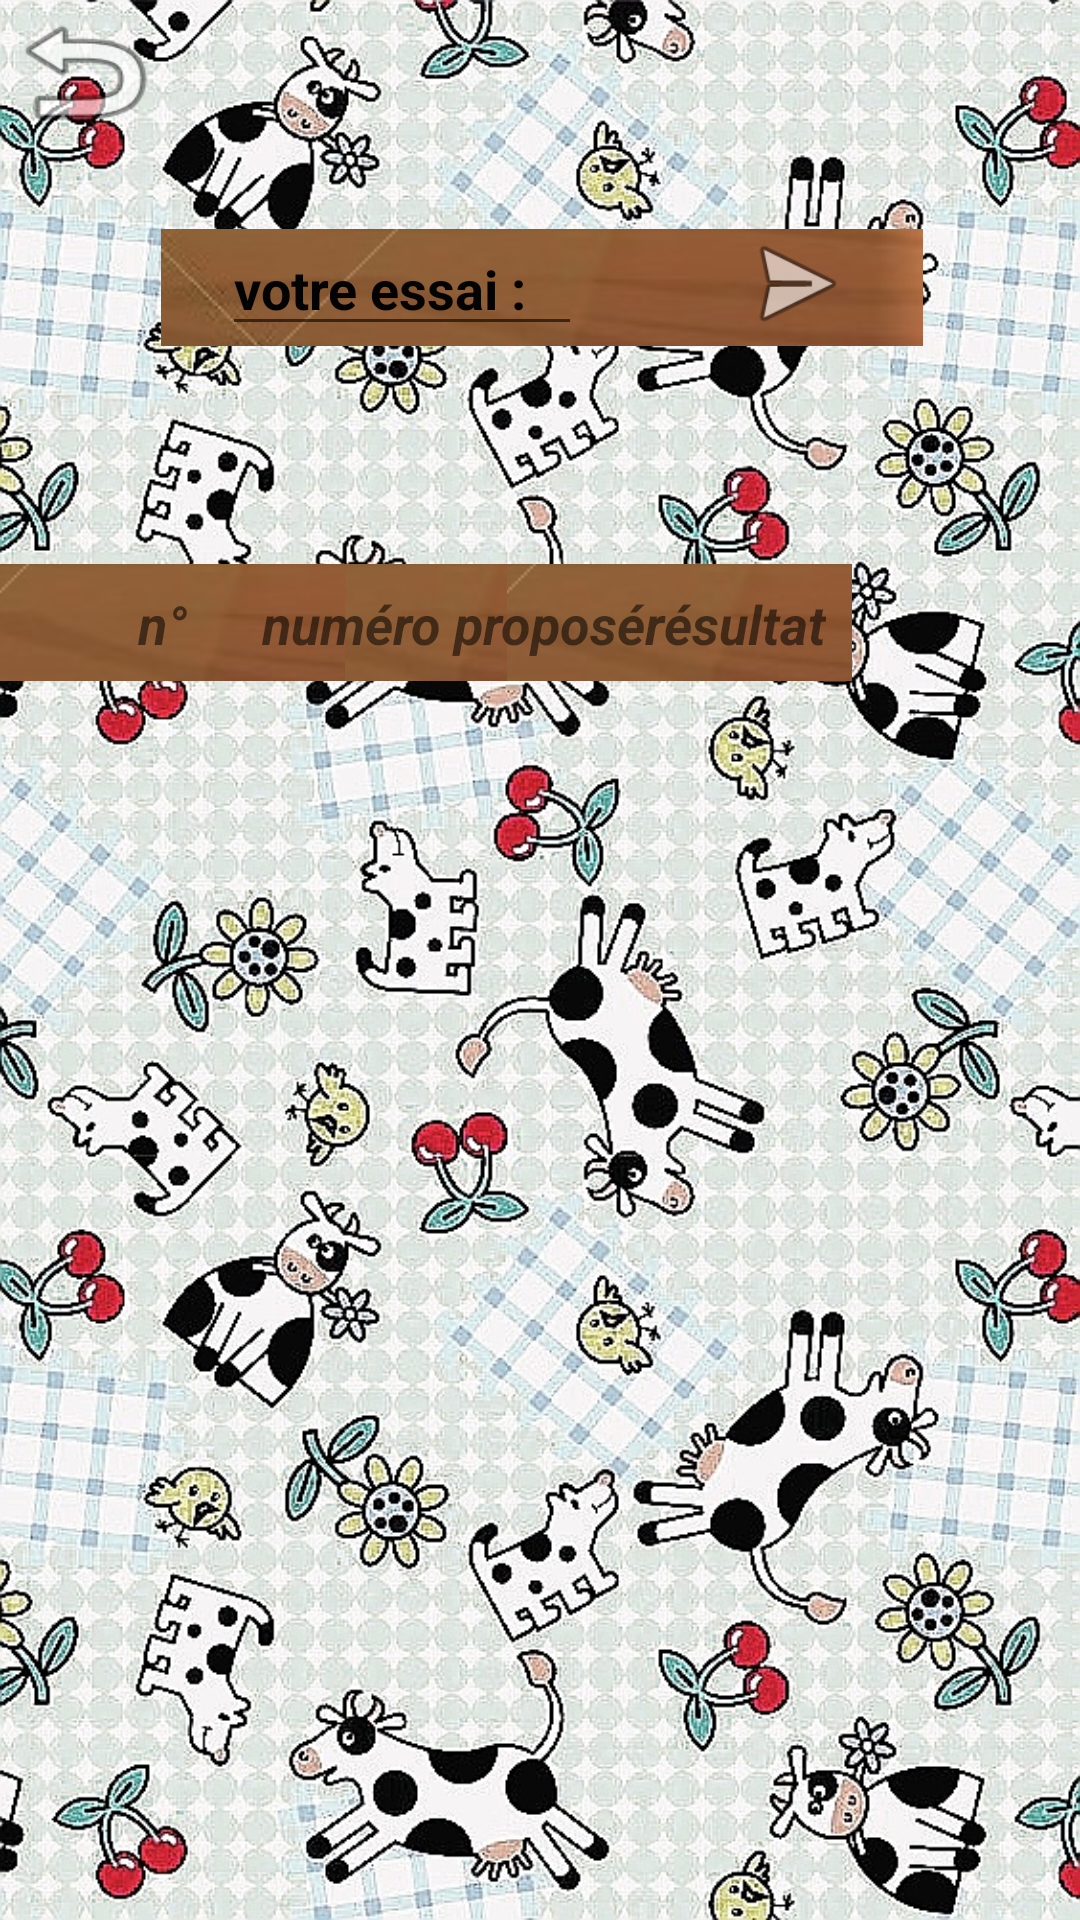

Icons on this 1080px×1920px Android screen, each with the point to tap as (x=x, y=y):
revert: (x=84, y=72)
send: (x=797, y=283)
